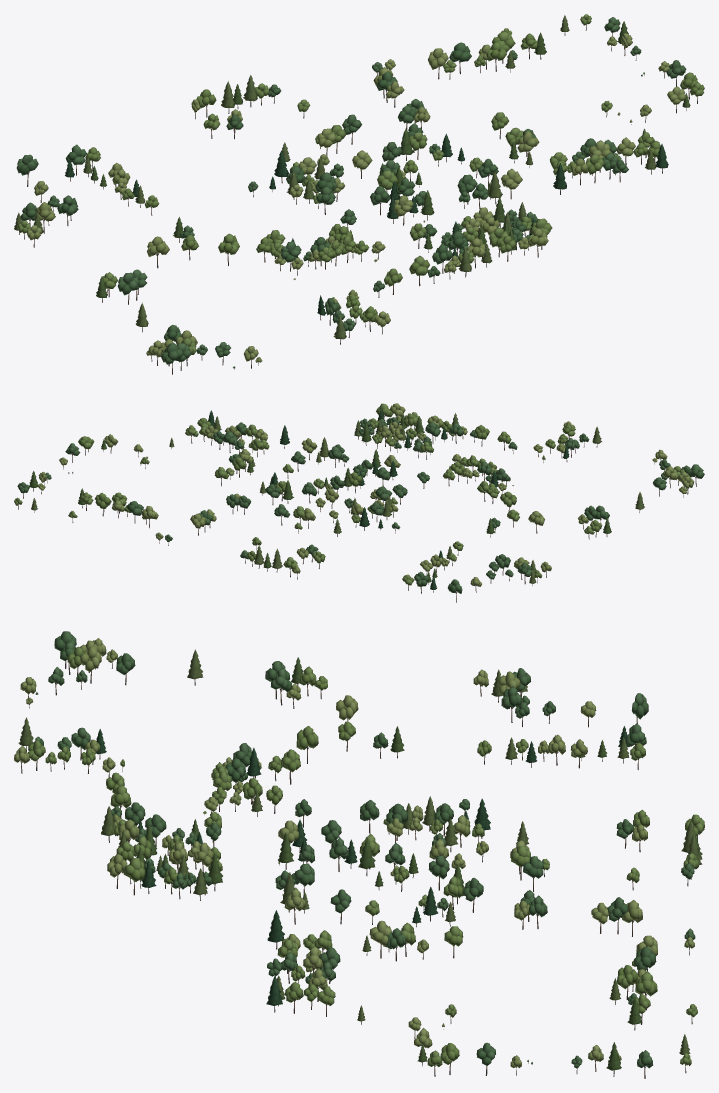
Rendered from trees.glb.
The picture shows the model from 3 angles, top to bottom: view 1: azimuth 30°, elevation 25°; view 2: azimuth 150°, elevation 25°; view 3: azimuth 270°, elevation 25°; orthographic projection. The views are drawn at different scales.
Visible parts, largest first — view 1: pilot-trees-foliage, pilot-trees-wood; view 2: pilot-trees-foliage, pilot-trees-wood; view 3: pilot-trees-foliage, pilot-trees-wood.
Part boxes in pixels (x1,y1,x2,y2): pilot-trees-foliage: (14,14,704,368); pilot-trees-wood: (19,25,697,374); pilot-trees-foliage: (14,403,704,593); pilot-trees-wood: (18,415,696,602); pilot-trees-foliage: (14,631,704,1070); pilot-trees-wood: (20,660,697,1078).
Bounding box in the file's own units: 499 × 31.46 × 354.
